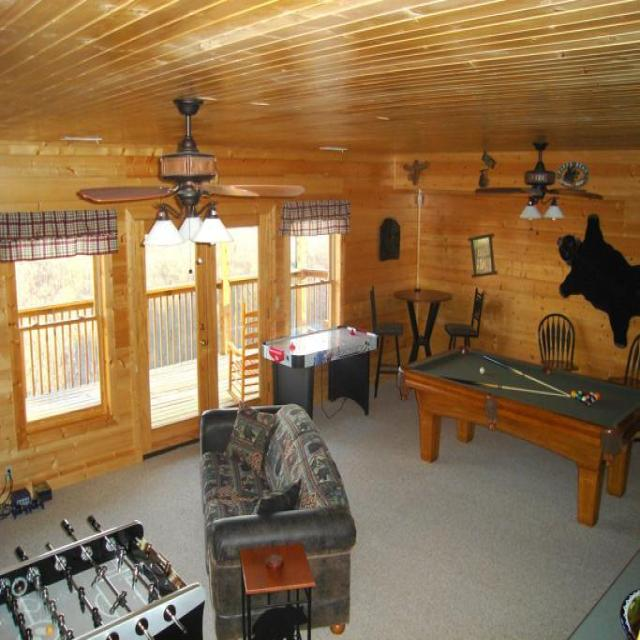chair: (369, 284, 404, 398), (444, 286, 485, 350), (537, 312, 578, 372)
curtains: (0, 208, 118, 262), (278, 198, 350, 238)
pots: (619, 588, 639, 638)
sofa: (198, 400, 356, 639)
stairs: (226, 300, 259, 404)
table: (397, 345, 639, 526), (260, 324, 378, 420), (392, 288, 450, 362)
windows: (13, 251, 104, 425), (288, 232, 332, 336), (468, 232, 496, 276)
